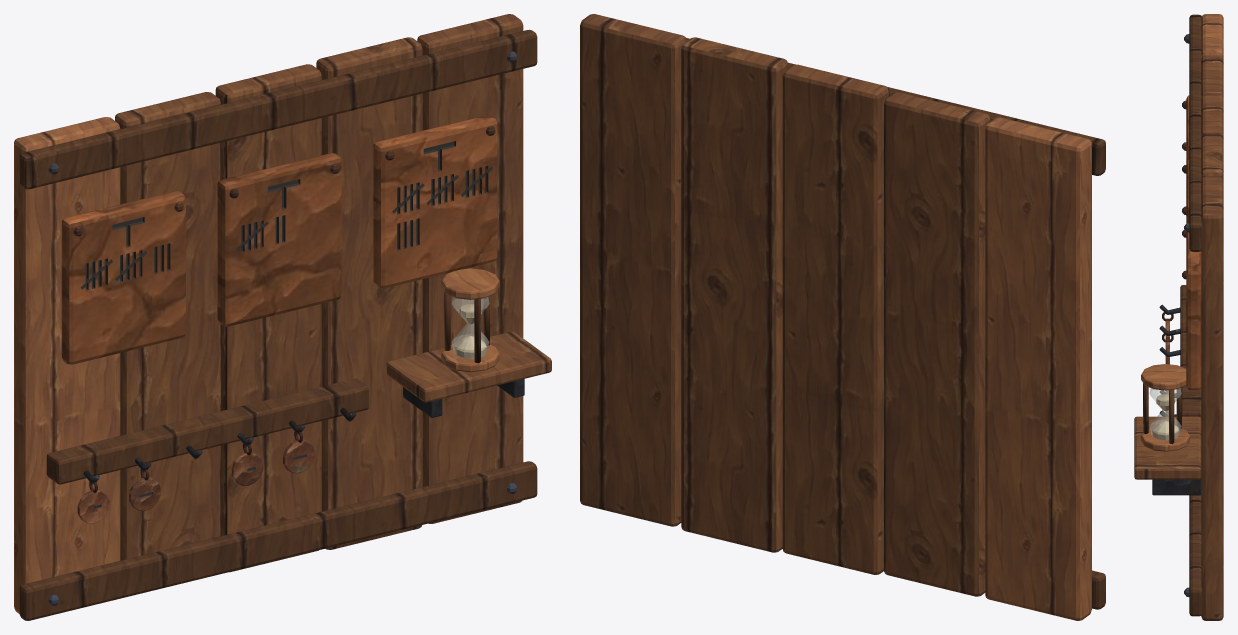
The model's file is hw_shift_board.glb.
The picture shows the model from 3 angles, left to right: view 1: azimuth 30°, elevation 25°; view 2: azimuth 150°, elevation 25°; view 3: azimuth 270°, elevation 25°; orthographic projection. The views are drawn at different scales.
Visible parts, largest first — view 1: model; view 2: model; view 3: model.
Boxes of the visible parts, x1=… form: model: x1=14, y1=14, x2=551, y2=620; model: x1=580, y1=14, x2=1105, y2=620; model: x1=1134, y1=14, x2=1223, y2=620.
Bounding box in the file's own units: 1.12 × 1.01 × 0.2.
Materials: 13 (10 with a texture image).
